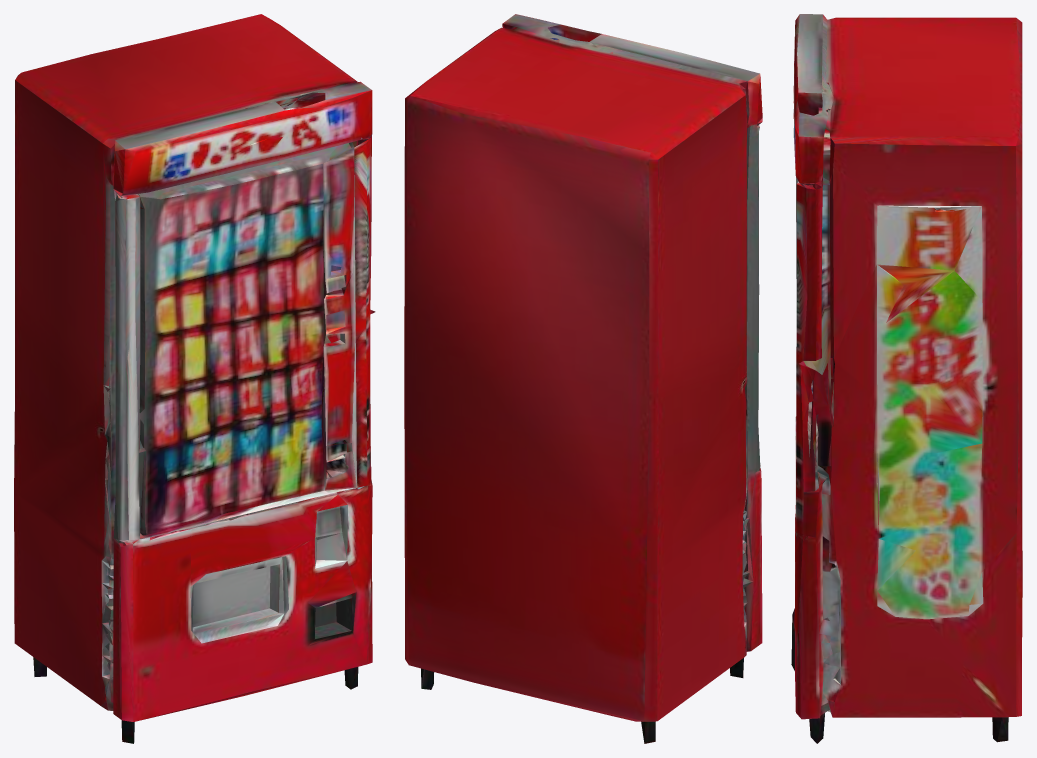
Rendered from vending_machine.glb.
3 renders of one model, left to right at view 1: azimuth 30°, elevation 25°; view 2: azimuth 150°, elevation 25°; view 3: azimuth 270°, elevation 25°, orthographic.
Parts seen in each view (by area): view 1: vending_machine; view 2: vending_machine; view 3: vending_machine.
Part boxes in pixels (x1=…): vending_machine: x1=14, y1=14, x2=375, y2=743; vending_machine: x1=404, y1=14, x2=762, y2=743; vending_machine: x1=791, y1=14, x2=1022, y2=743.
Bounding box in the file's own units: 0.8168 × 1.83 × 0.6269.
Materials: 1 (1 with a texture image).
